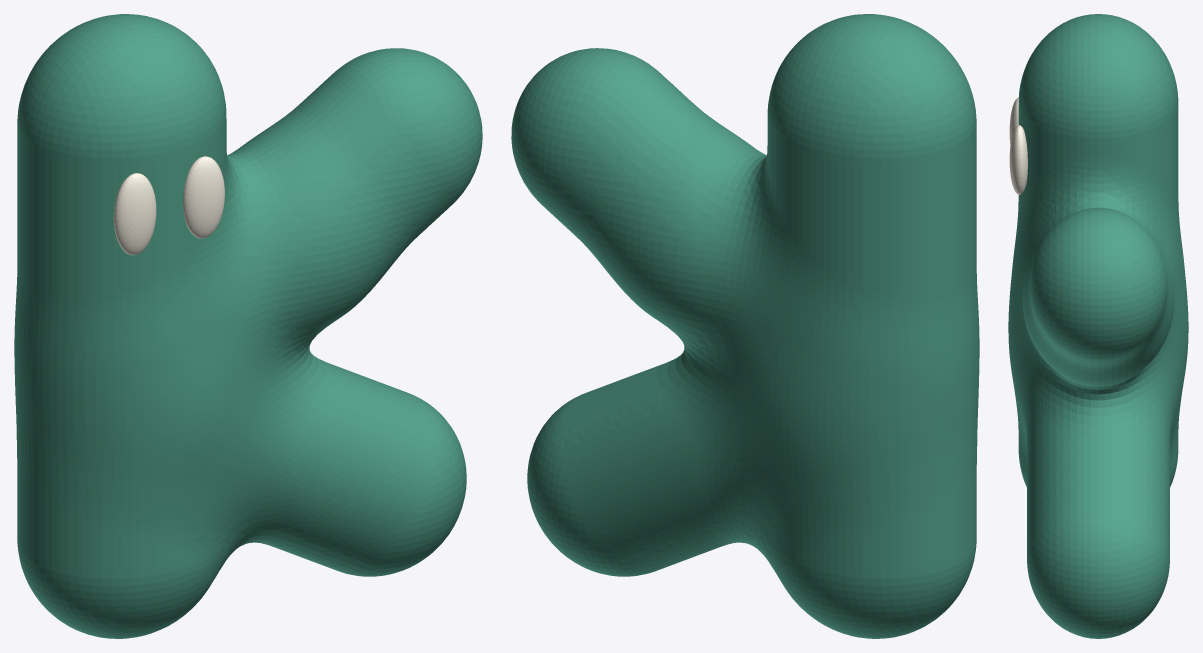
File: neutral-concept.glb
The picture shows the model from 3 angles, left to right: view 1: azimuth 30°, elevation 25°; view 2: azimuth 150°, elevation 25°; view 3: azimuth 270°, elevation 25°; orthographic projection. The views are drawn at different scales.
Visible parts, largest first — view 1: KipBody, Eye1, Eye2; view 2: KipBody; view 3: KipBody, Eye2, Eye1.
Part boxes in pixels (x1,y1,x2,y2): KipBody: (14, 14, 482, 638); Eye1: (113, 173, 156, 255); Eye2: (183, 156, 224, 238); KipBody: (511, 14, 979, 638); KipBody: (1008, 14, 1188, 638); Eye2: (1009, 125, 1027, 194); Eye1: (1009, 97, 1018, 144).
Size of the model in its own units: 0.7612 by 0.9916 by 0.3193.
